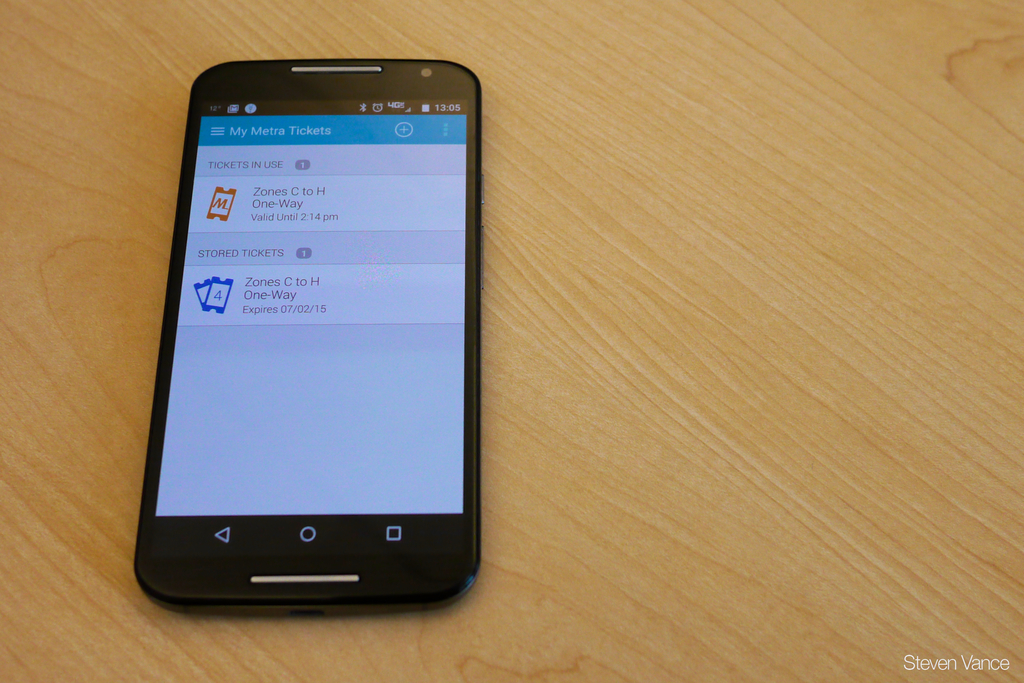mobile phone: (130, 58, 487, 618)
